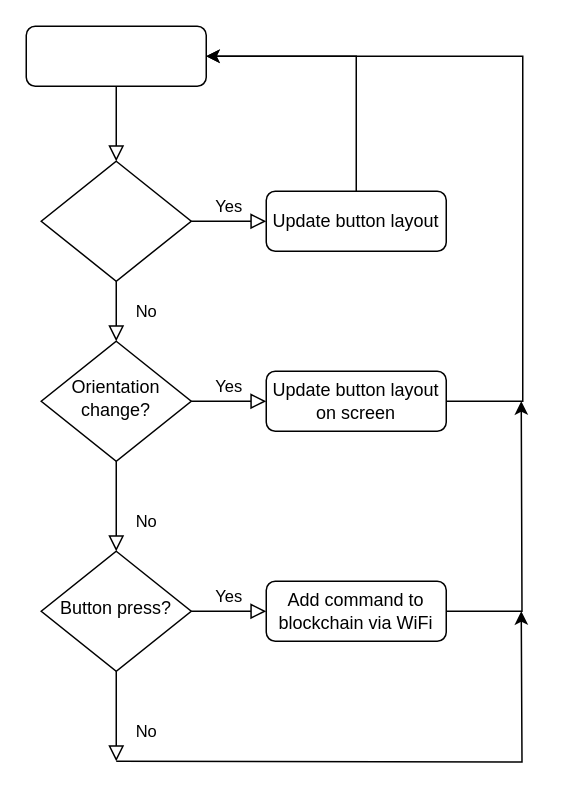
The diagram is 561 pixels wide and 803 high, and some of its shapes have lost their labels. The centre of each missing label's shape, as x and y in pixels:
Check MQTT configuration update: the point at 115,55
New message published to topic?: the point at 115,220
